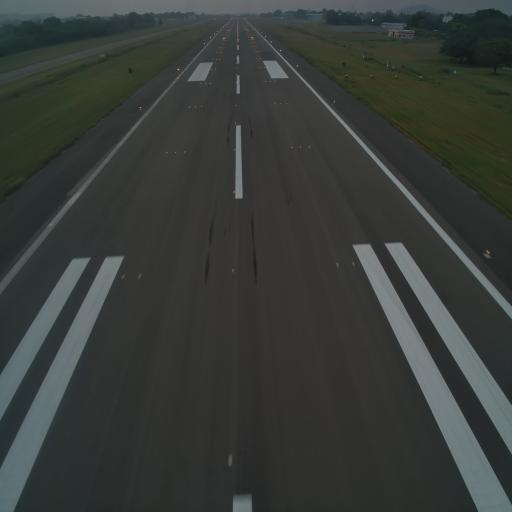off: (231, 265, 236, 275)
on: (103, 271, 110, 284), (484, 248, 490, 262), (364, 258, 372, 267), (137, 272, 143, 282), (232, 188, 237, 198), (335, 260, 341, 268), (121, 272, 126, 281), (352, 257, 356, 267), (233, 146, 237, 153), (174, 149, 178, 156), (299, 144, 303, 151), (308, 142, 311, 149), (164, 150, 168, 155), (183, 148, 186, 154), (291, 146, 293, 150)
